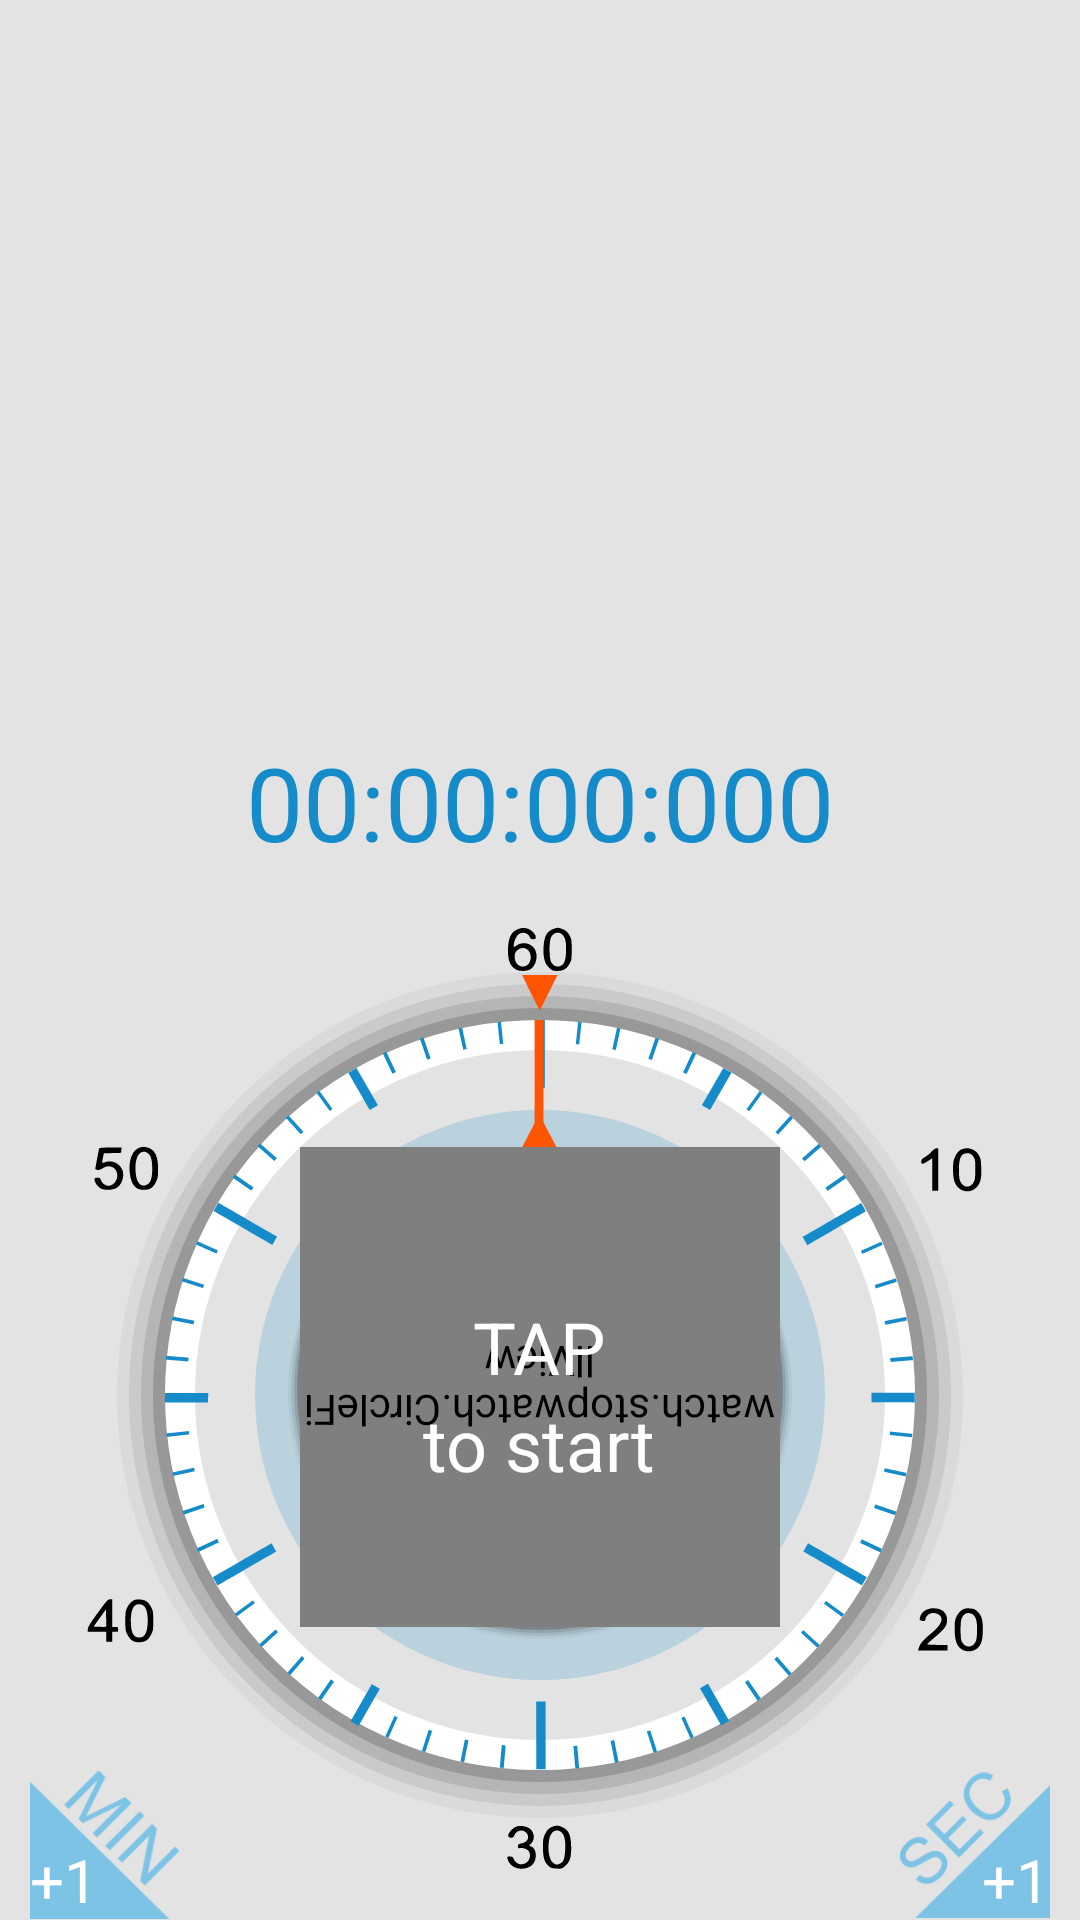

Point at icon controls on the screen. Image size 1080px×1920px, points as [x,y].
add: [104,1845]
triangle: [540,993]
